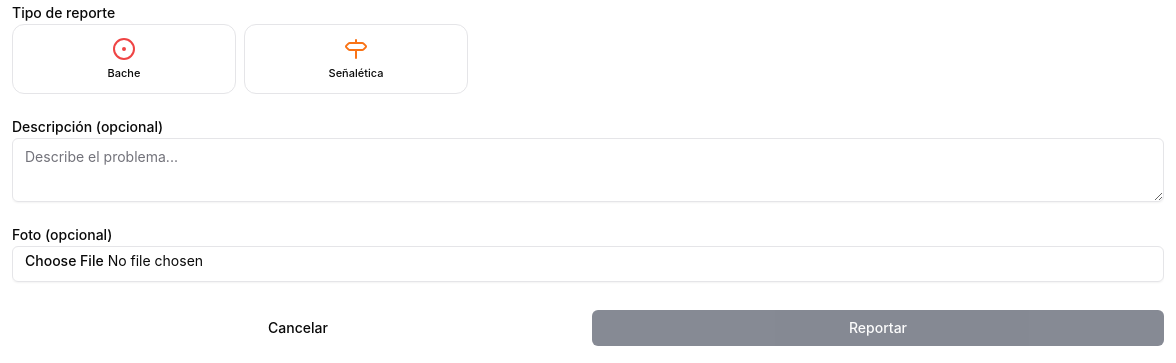
Scenario: ReportForm › enables submit when category is selected
What coordinates should you click on to do the following:
click the button "Bache"
I would click on:
 (124, 59)
Its box is [12,24,236,94].
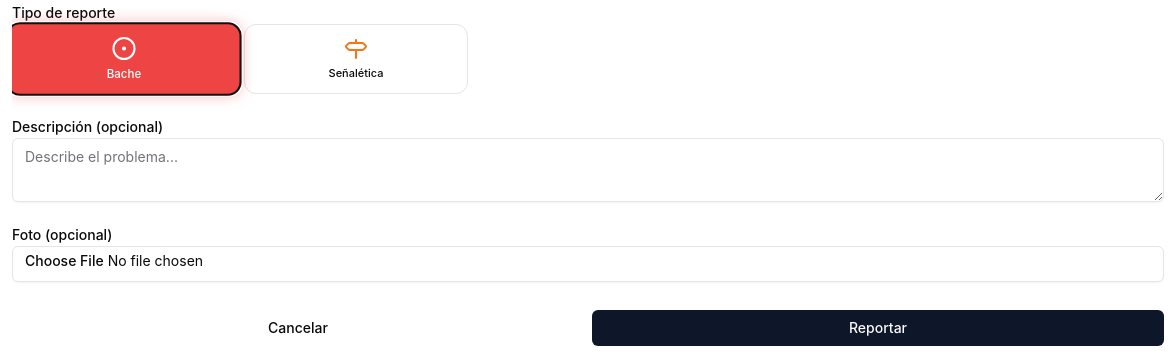
Expected: the button "Reportar" is enabled, [592,310,1164,346]
